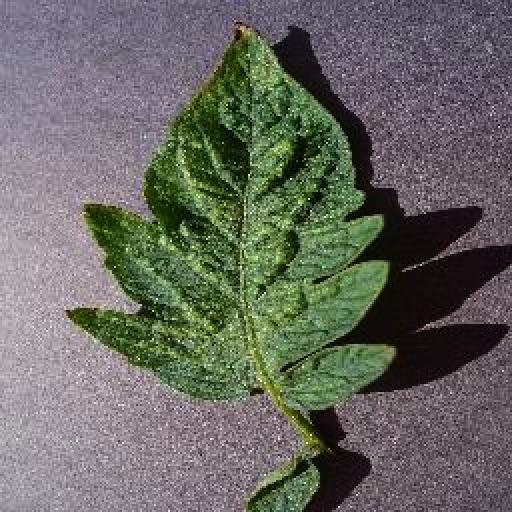disease_tomato: (68, 20, 398, 410)
